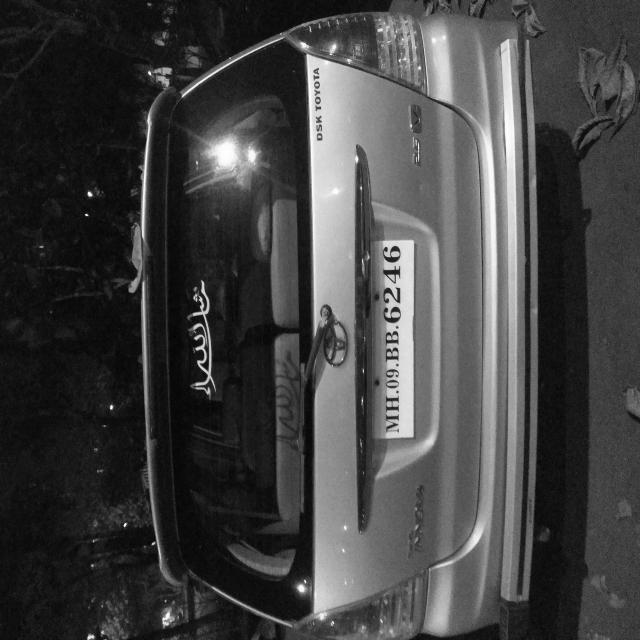car: (0, 186, 480, 640)
license-plate: (149, 488, 305, 562)
